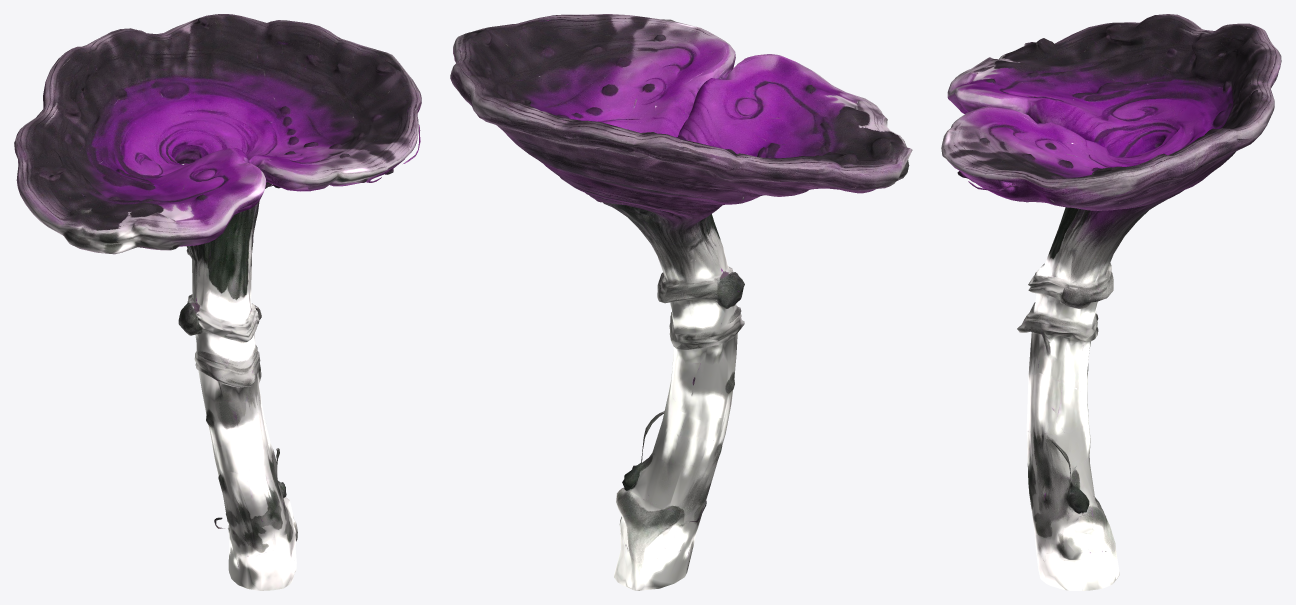
File: hundunlingzhi.glb
3 views of the same model, side by side, from view 1: azimuth 30°, elevation 25°; view 2: azimuth 150°, elevation 25°; view 3: azimuth 270°, elevation 25° (orthographic). The views are drawn at different scales.
Bounding box in the file's own units: 1.56 × 1.9 × 1.17.
1 material, 1 textured.
